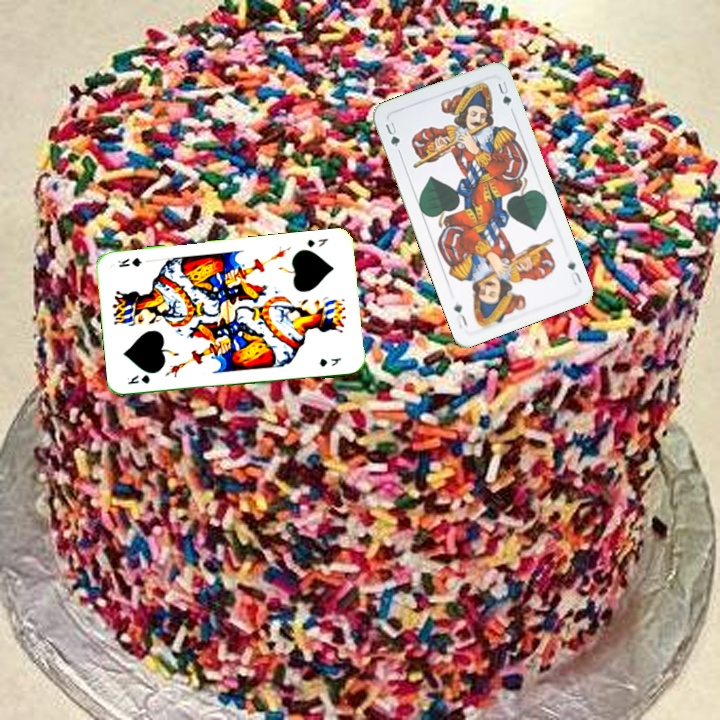GK: (123, 371, 152, 387), (303, 234, 331, 250)
GU: (381, 117, 402, 149), (564, 257, 584, 288)
